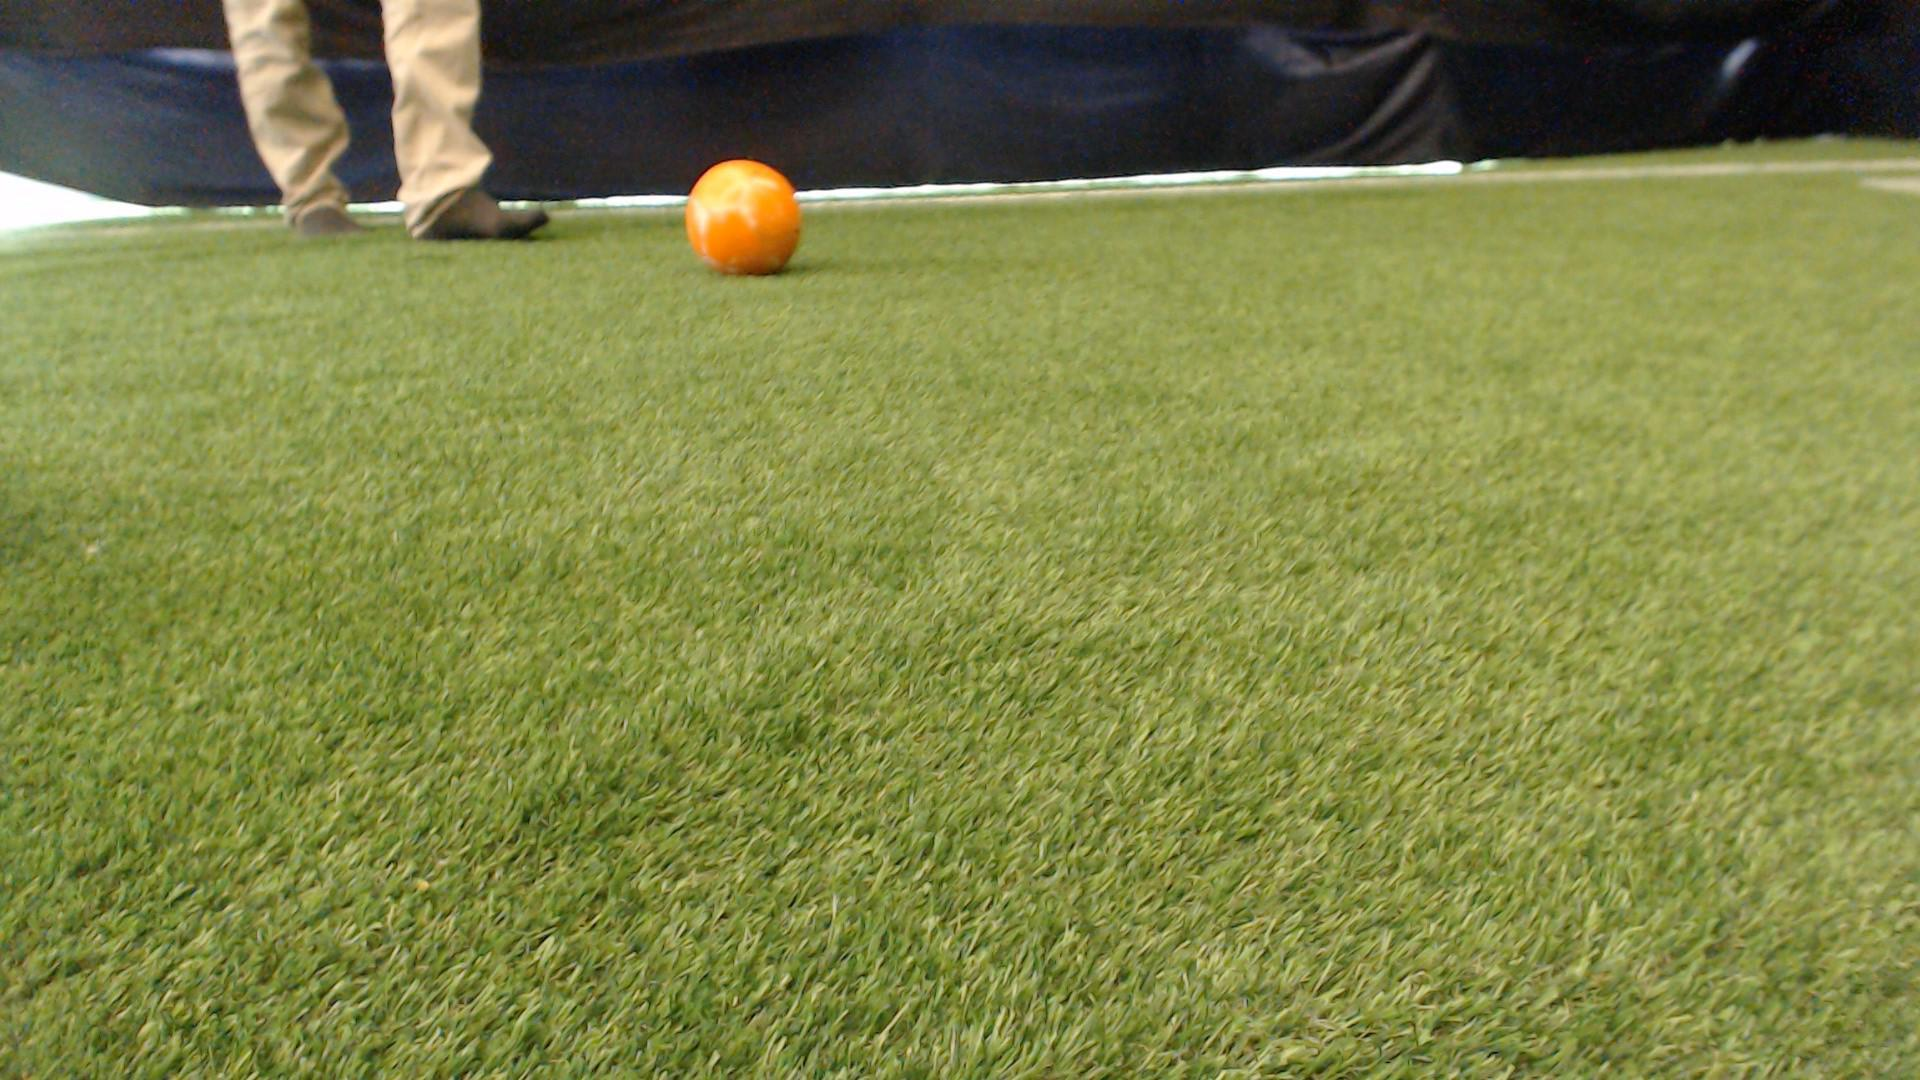bola: (661, 129, 843, 305)
